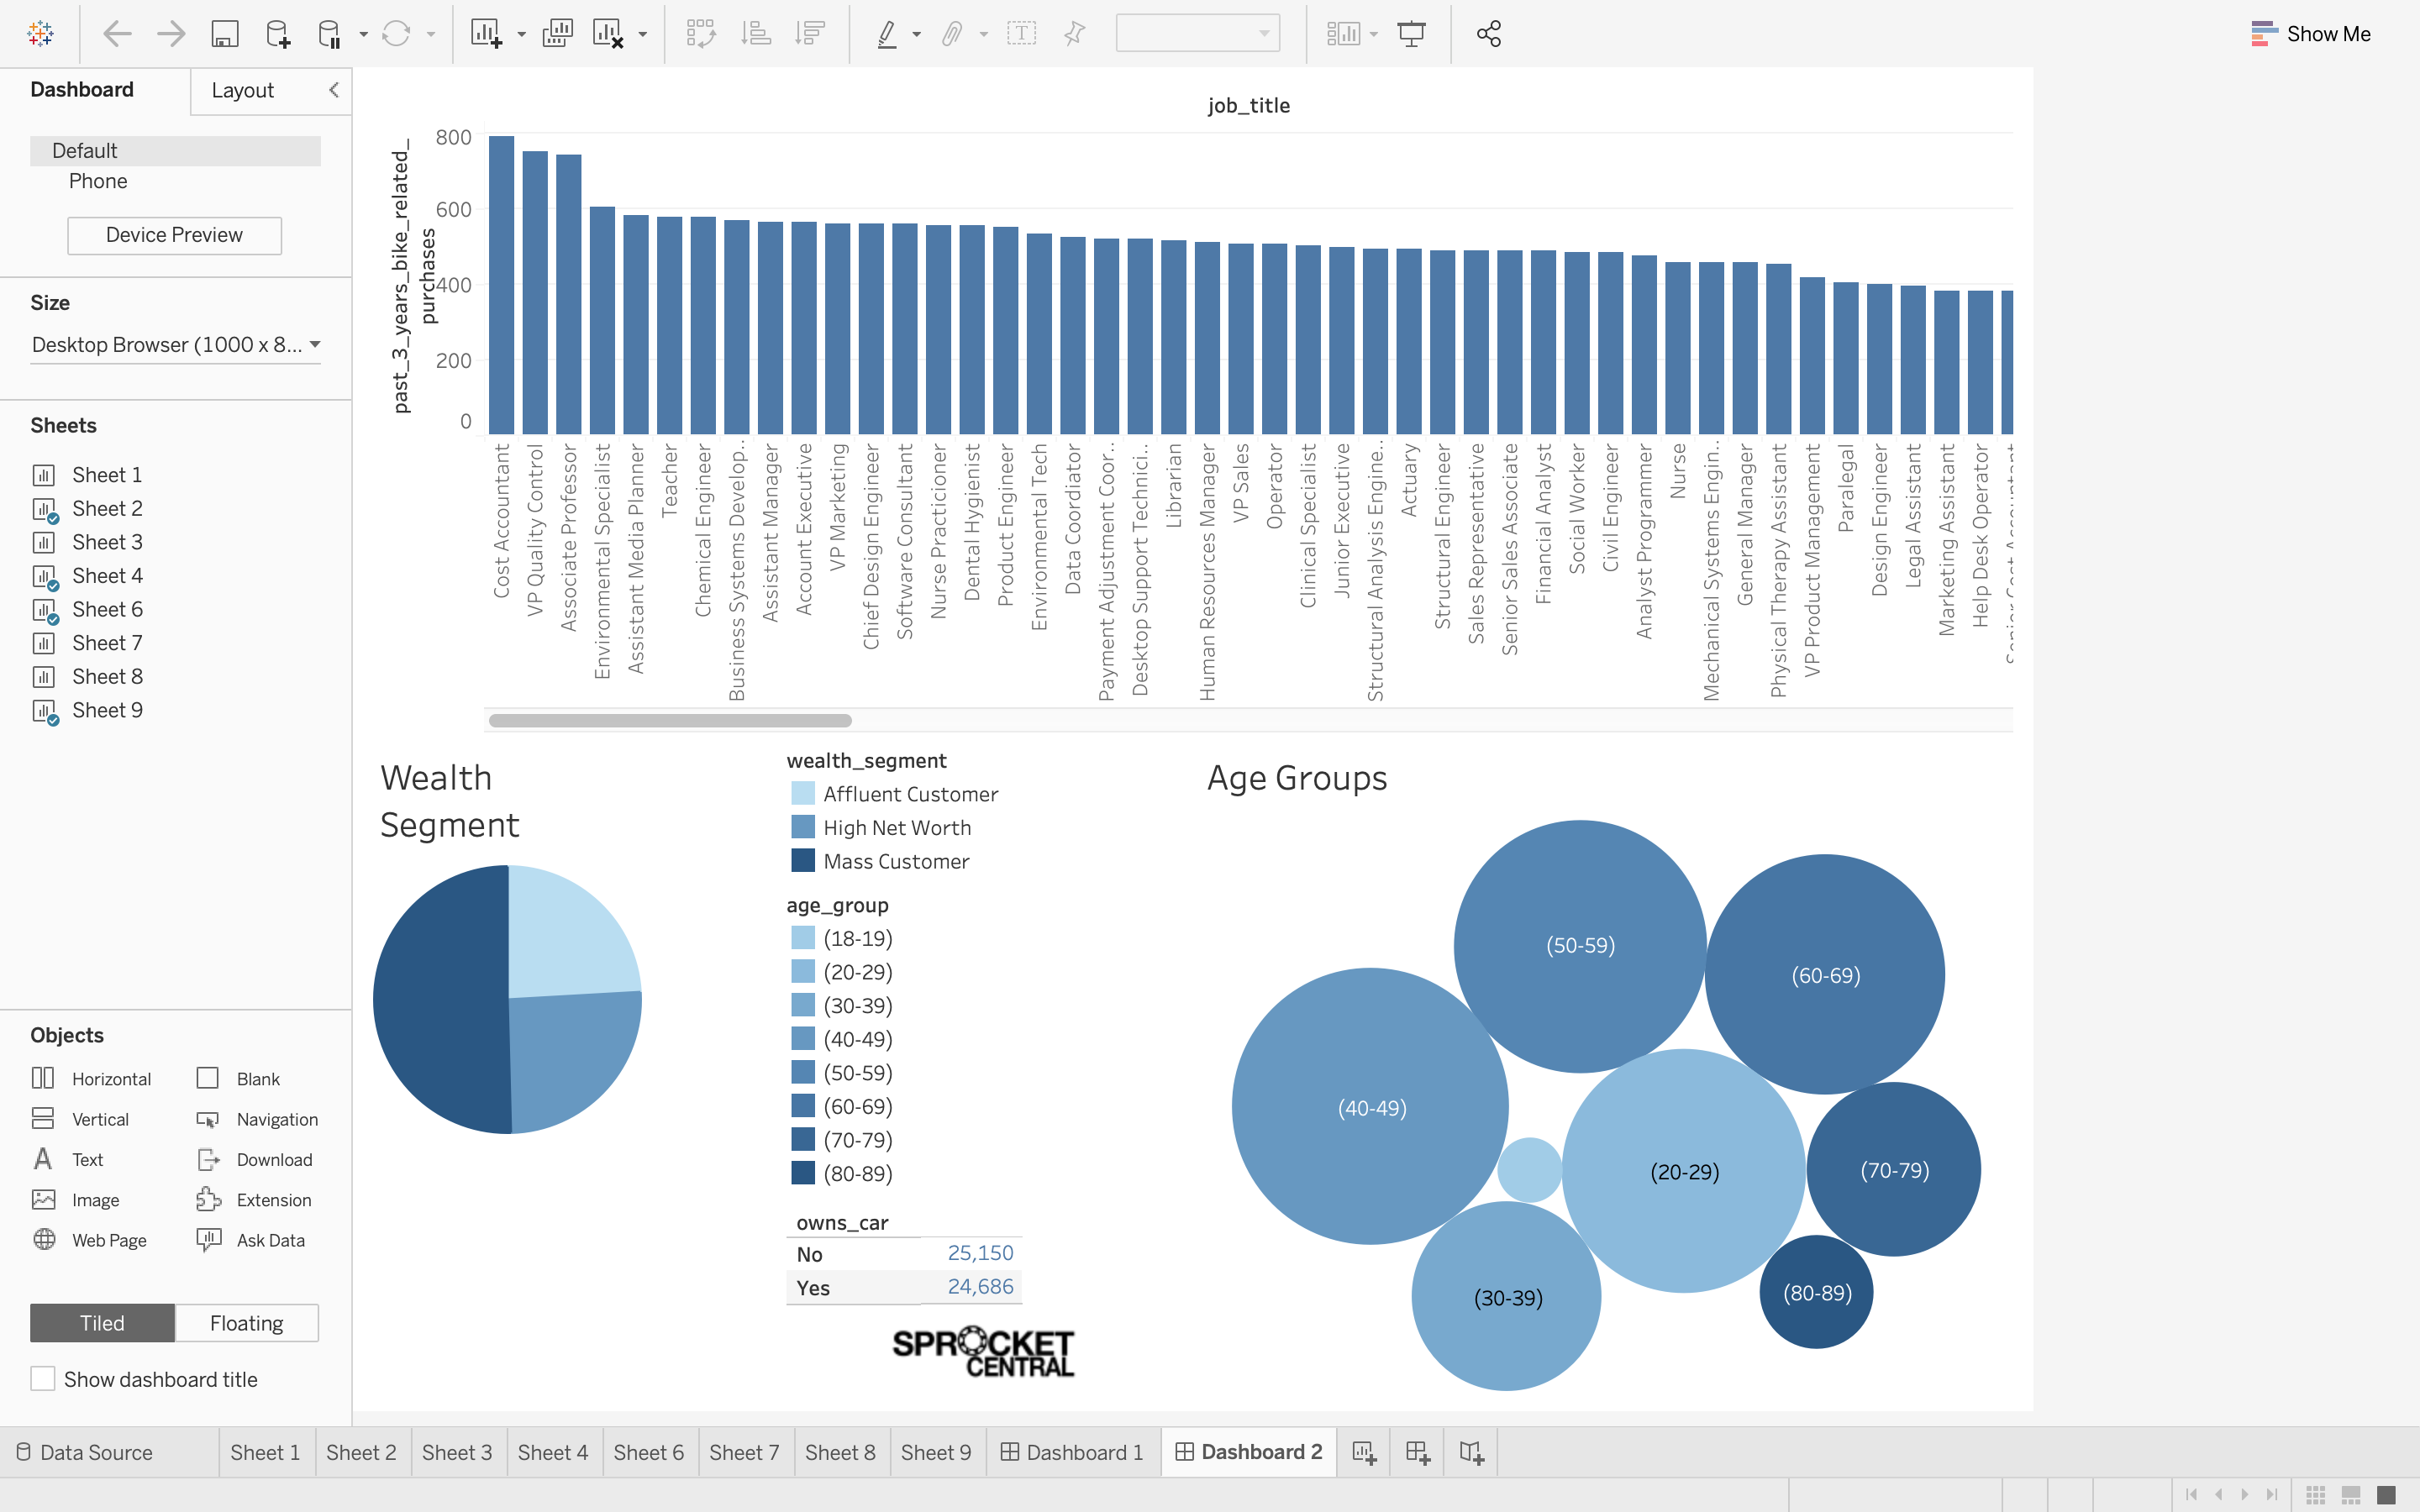

This screenshot's page, from the dashboard's own definition file:
{"tool":"tableau","page":{"name":"Dashboard 2","canvas":[1000,800],"ordinal":1},"visuals":[{"type":"worksheet","title":"Sheet 2","mark":"Automatic","rows":["past_3_years_bike_related_purchases"],"cols":["job_title"],"box":[8,8,984,392]},{"type":"worksheet","title":"Sheet 4","mark":"Pie","box":[8,400,246,392]},{"type":"legend","title":"Sheet 4","param":"[federated.1sg7vn61hyfcho1cs0vfe1lcmfop].[none:wealth_segment:nk]","box":[254,400,246,86]},{"type":"worksheet","title":"Sheet 9","mark":"Circle","box":[500,400,492,392]},{"type":"legend","title":"Sheet 9","param":"[federated.1sg7vn61hyfcho1cs0vfe1lcmfop].[none:age_group:nk]","box":[254,486,246,186]},{"type":"worksheet","title":"Sheet 6","mark":"Automatic","rows":["owns_car"],"box":[254,672,246,69]},{"type":"image","param":"/Users/arpitabhattacharya/Desktop/Warwick /Internship/KPMG/title.png","box":[254,741,246,51]}]}

Visuals, with their boxes on the page's 1000x800 design canvas (x1, y1, x2, y2). These are canvas units, not pixel positions in the 2420x1512 screenshot, which may show the page scaled, cropped or inside an application window:
"Sheet 2" worksheet: 8, 8, 992, 400
"Sheet 4" worksheet (Pie marks): 8, 400, 254, 792
"Sheet 4" legend: 254, 400, 500, 486
"Sheet 9" worksheet (Circle marks): 500, 400, 992, 792
"Sheet 9" legend: 254, 486, 500, 672
"Sheet 6" worksheet: 254, 672, 500, 741
image: 254, 741, 500, 792
